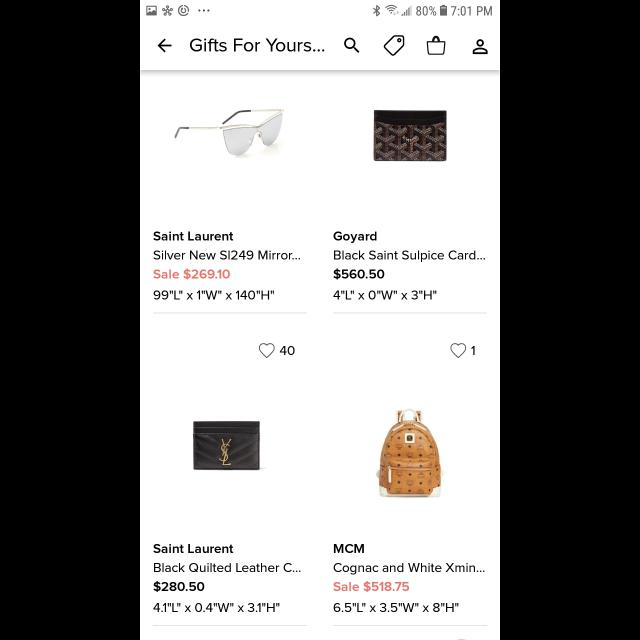icon: (384, 36, 404, 56), (426, 36, 446, 56), (344, 38, 360, 54), (259, 342, 275, 358), (472, 40, 488, 54), (450, 344, 466, 358), (158, 39, 172, 53)
image: (377, 409, 445, 496), (175, 110, 285, 158), (374, 110, 446, 162), (194, 422, 260, 470)
text: (190, 39, 326, 53), (334, 250, 486, 262), (334, 563, 484, 575), (154, 563, 302, 573), (154, 250, 300, 260), (154, 603, 280, 613), (334, 603, 458, 613), (153, 290, 274, 300), (333, 290, 437, 300), (334, 580, 410, 592), (154, 268, 230, 280), (154, 543, 234, 553), (154, 231, 234, 241), (333, 268, 385, 280), (333, 232, 377, 244), (154, 582, 206, 592), (334, 543, 364, 553), (280, 346, 296, 356), (471, 346, 475, 356)
uppertaskbar: (140, 1, 500, 17)
